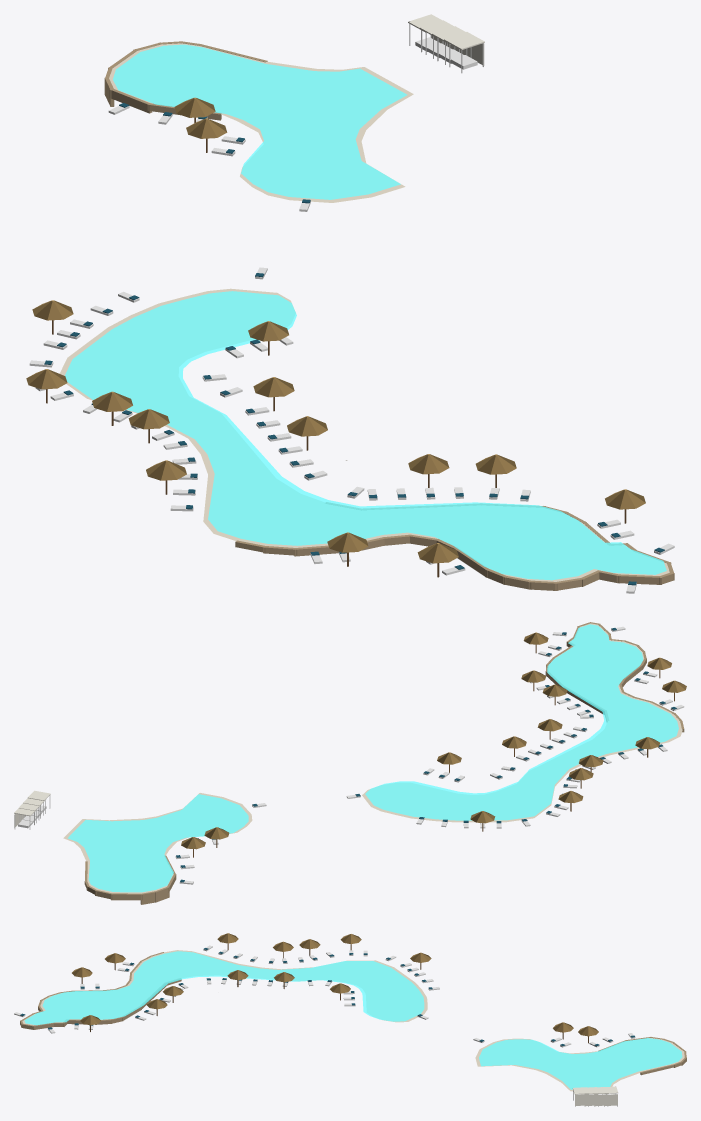
The model's file is hiltonpool.glb.
The picture shows the model from 3 angles, top to bottom: view 1: azimuth 30°, elevation 25°; view 2: azimuth 150°, elevation 25°; view 3: azimuth 270°, elevation 25°; orthographic projection. The views are drawn at different scales.
Parts seen in each view (by area): view 1: hiltonpool_lod0; view 2: hiltonpool_lod0; view 3: hiltonpool_lod0.
Part boxes in pixels (box(x1,y1,x2,y2)): hiltonpool_lod0: box(26, 14, 674, 593); hiltonpool_lod0: box(14, 622, 686, 904); hiltonpool_lod0: box(14, 933, 686, 1106).
Size of what is drawn, in the model's own units: 70.17 by 4.88 by 120.
